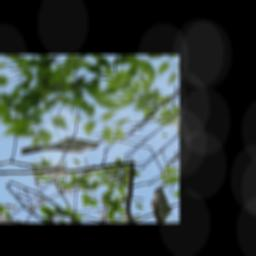Cuckoo: (18, 113, 105, 181)
